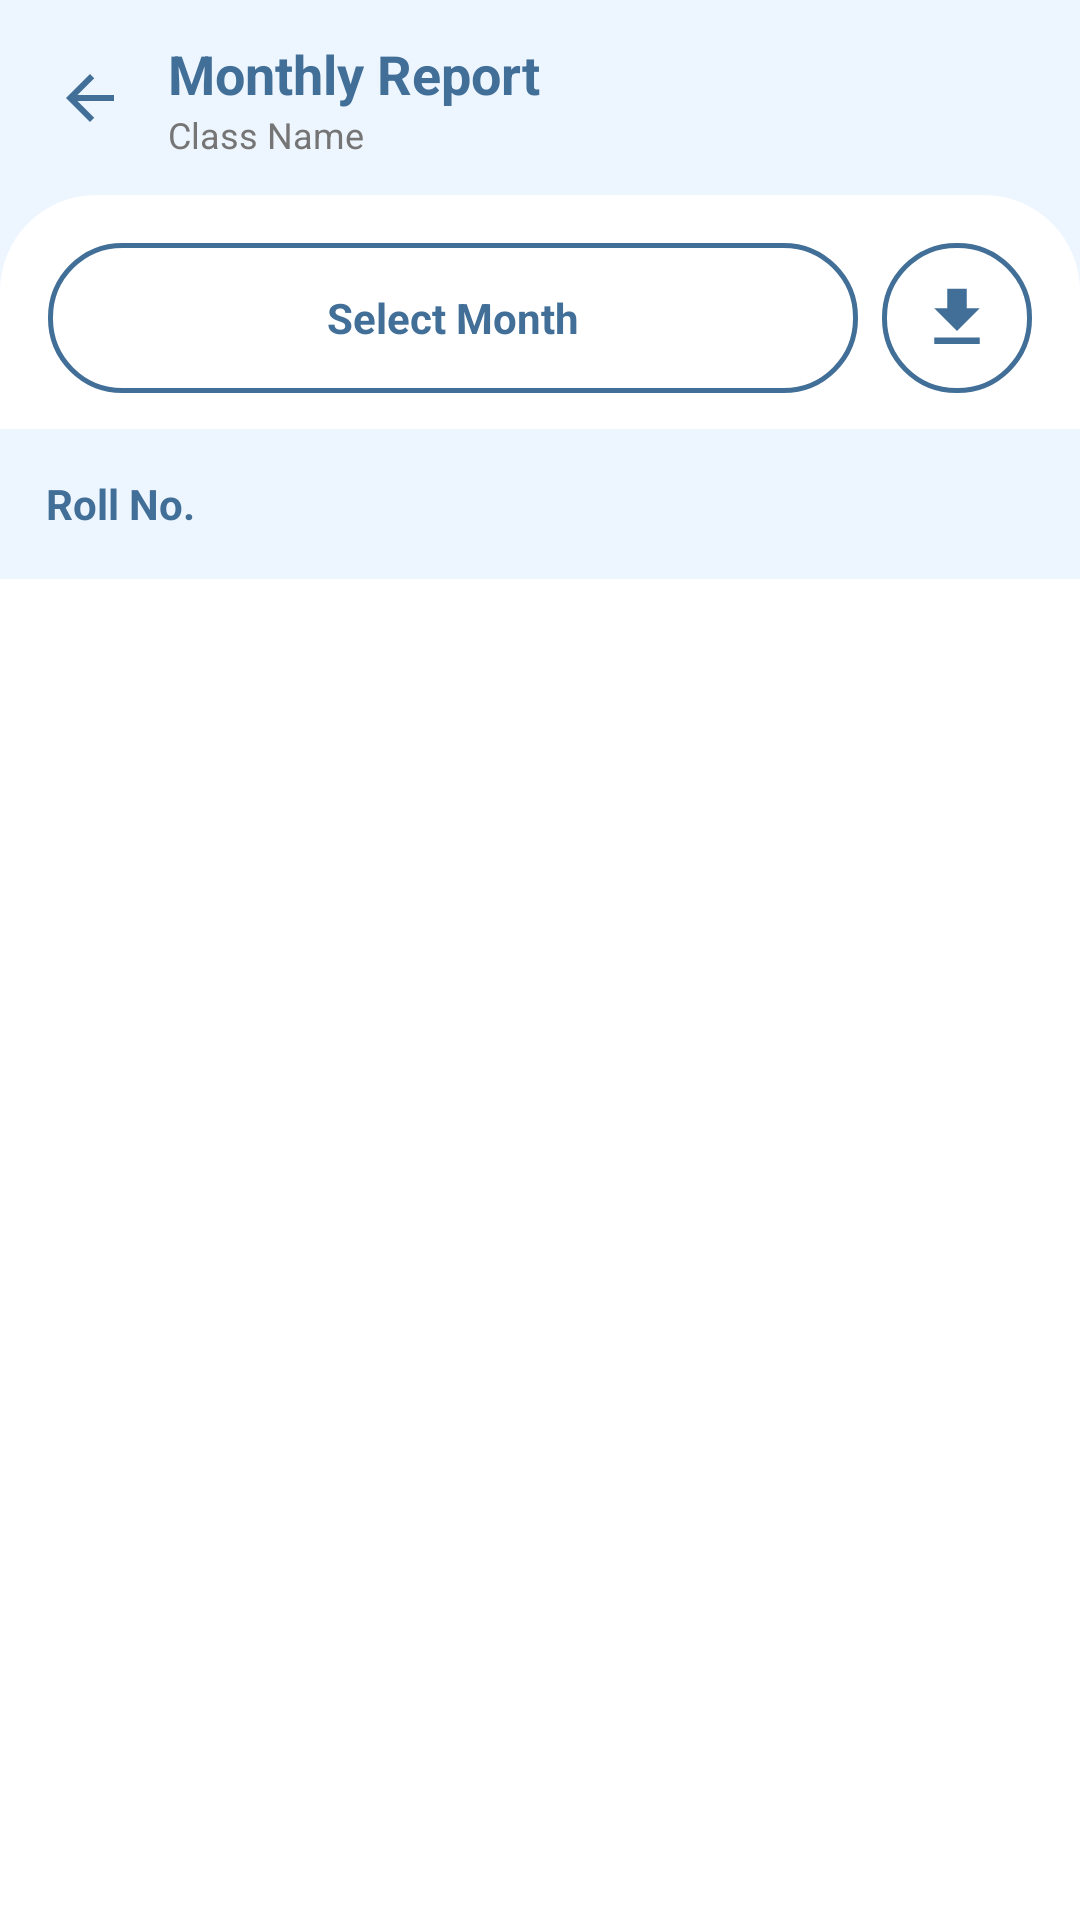

Where to tap for icons on this 1080px×1920px app screen, as [x,y]:
back: [90,98]
download: [957,318]
